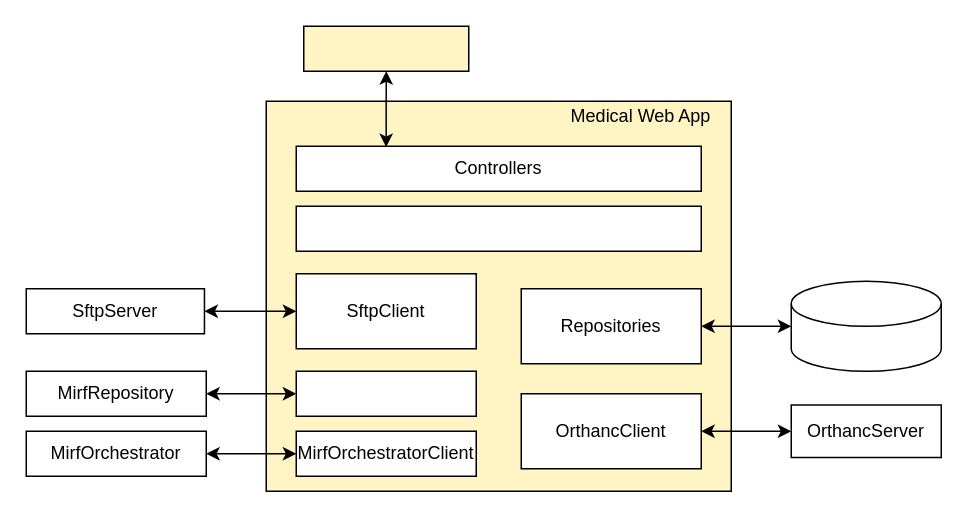
Some shapes in this 968 by 518 pixel diagram are drawn without their labels. Here are the shapes that lost their labels. From the top down, the centre of each, then its label:
At pixel 385 48: "UI".
At pixel 498 228: "Services".
At pixel 865 325: "PostgreSQL DB".
At pixel 385 393: "MirfRepositoryClient".
